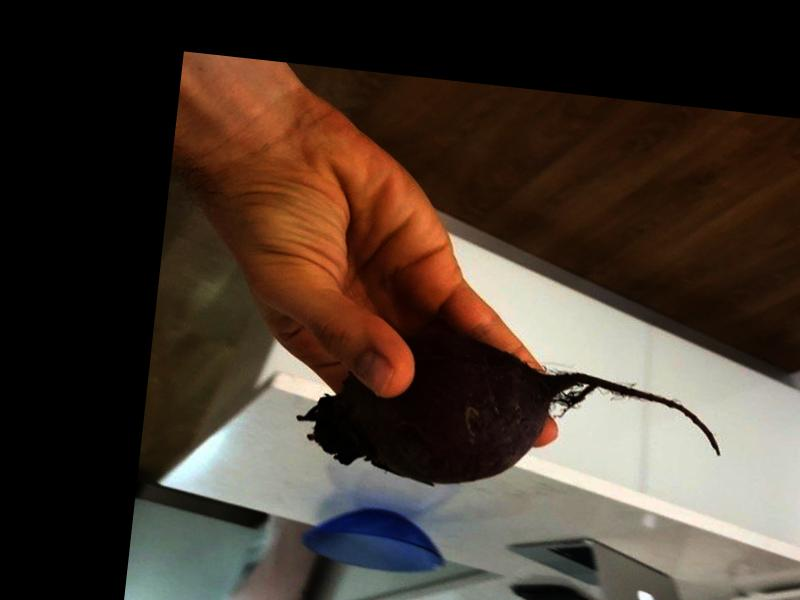Beet: (296, 322, 729, 513)
